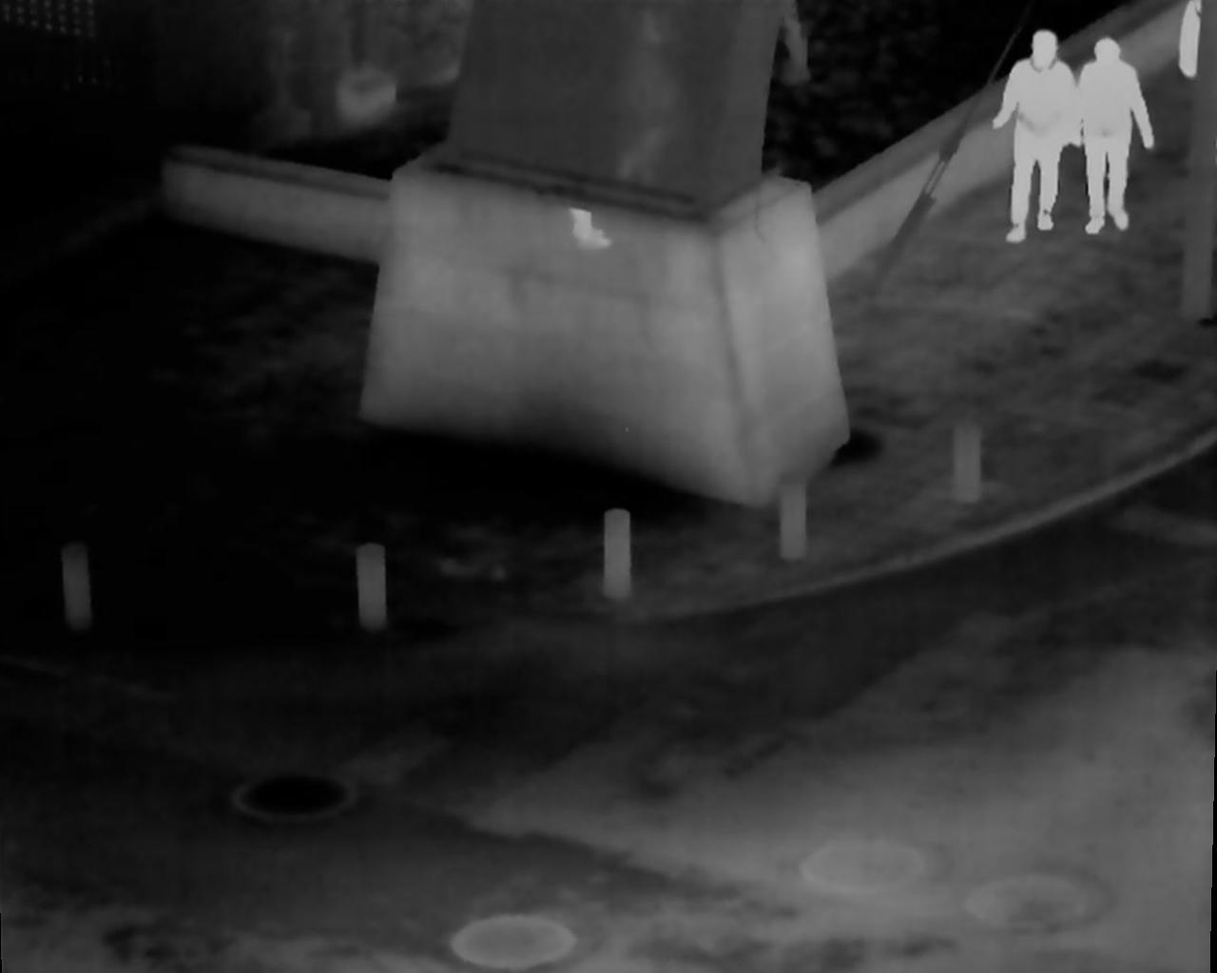person: (995, 31, 1078, 235), (1072, 41, 1145, 237)
